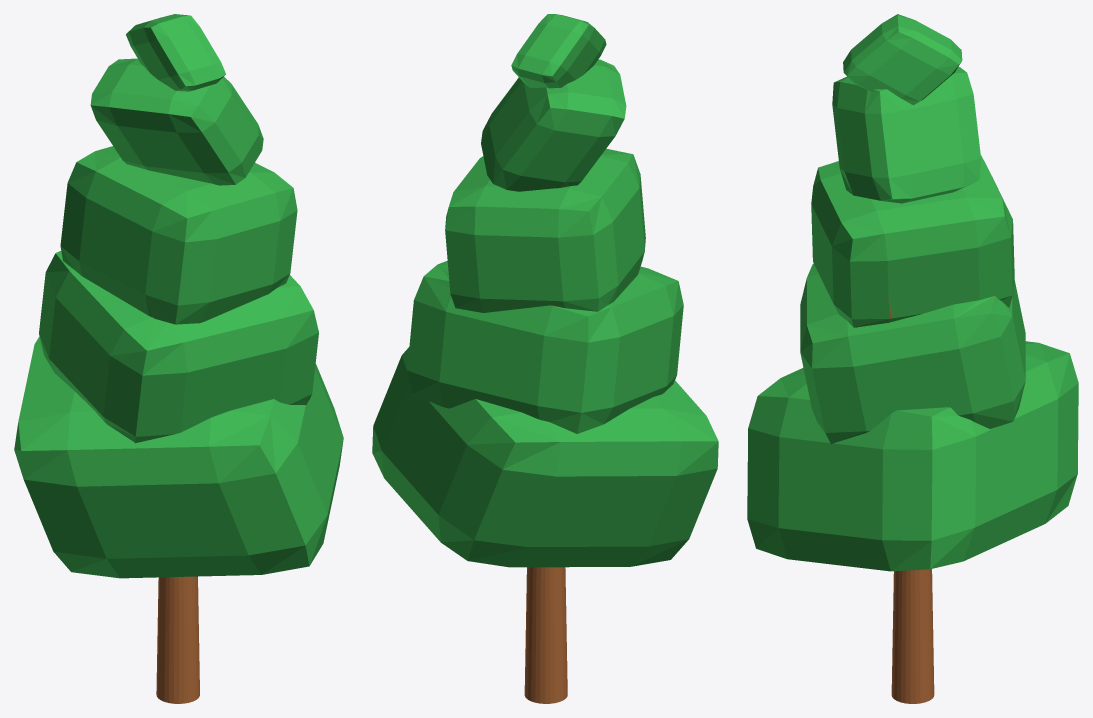
The model's file is Tree1.glb.
3 renders of one model, left to right at view 1: azimuth 30°, elevation 25°; view 2: azimuth 150°, elevation 25°; view 3: azimuth 270°, elevation 25°, orthographic. The views are drawn at different scales.
Parts seen in each view (by area): view 1: Trunk; view 2: Trunk; view 3: Trunk.
Part boxes in pixels (x1,y1,x2,y2): Trunk: (14,14,343,703); Trunk: (372,14,718,703); Trunk: (747,14,1078,703).
Size of the model in its own units: 2.63 by 5.17 by 2.33.
Materials: 1 (1 with a texture image).
